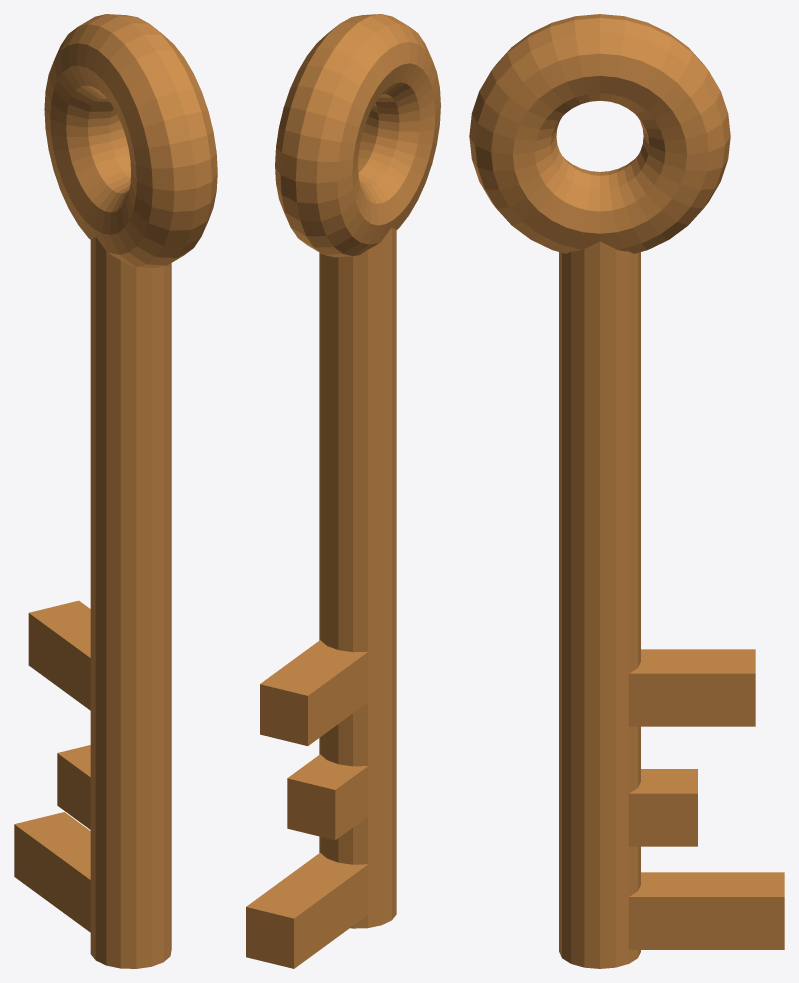
File: OldKey.fbx
3 views of the same model, side by side, from view 1: azimuth 30°, elevation 25°; view 2: azimuth 150°, elevation 25°; view 3: azimuth 270°, elevation 25° (orthographic). The views are drawn at different scales.
Parts seen in each view (by area): view 1: OldKey; view 2: OldKey; view 3: OldKey.
Boxes of the visible parts, x1,y1,x2,y2 form: OldKey: [14, 14, 217, 968]; OldKey: [246, 14, 440, 968]; OldKey: [469, 14, 784, 968].
Bounding box in the file's own units: 2.81 × 33.24 × 10.17.
